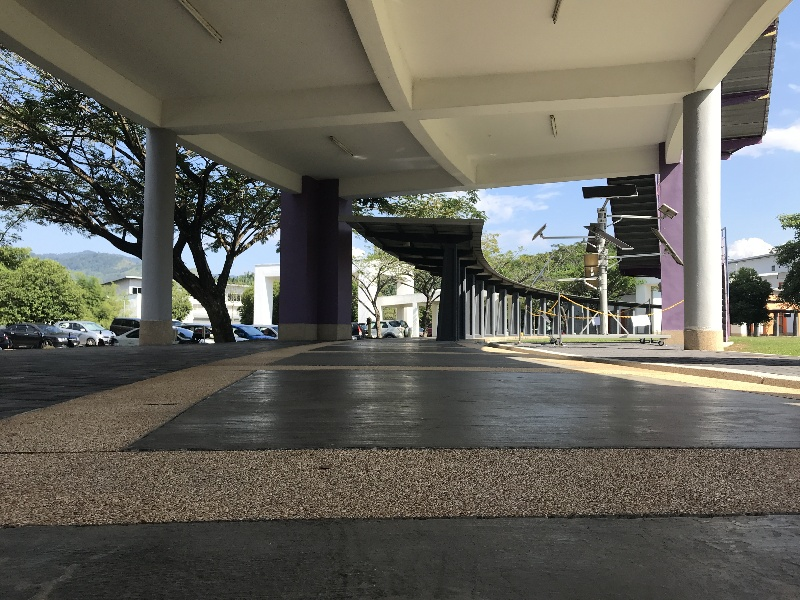Block D Pillar 5: (6, 12, 800, 552)
pillar: (662, 80, 735, 357), (266, 163, 364, 356), (135, 111, 182, 349), (426, 243, 469, 347)
